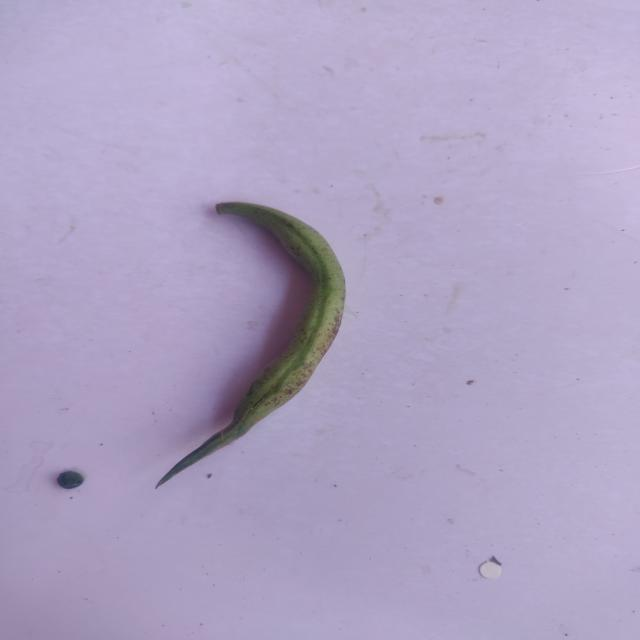Beans: (147, 193, 367, 528)
